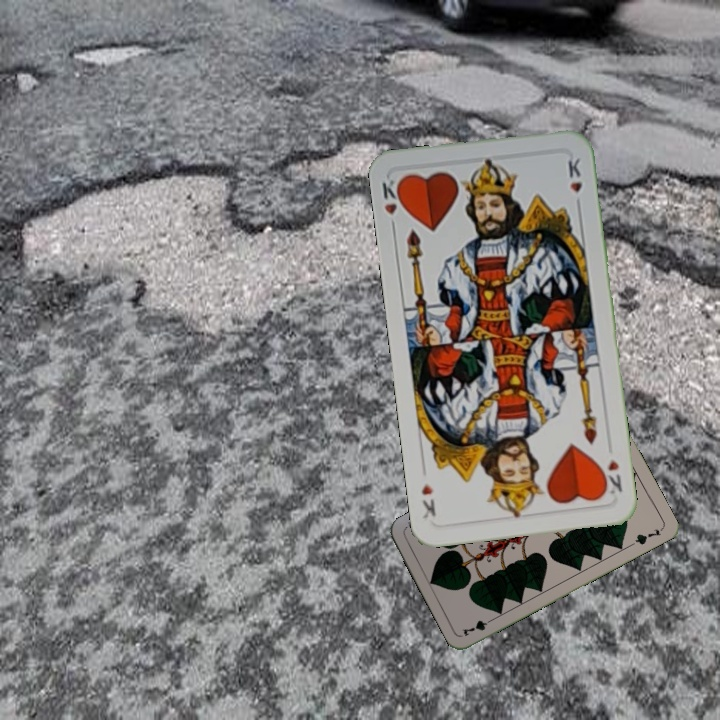G7: (458, 614, 498, 639)
HK: (377, 175, 407, 234), (597, 455, 625, 499)
